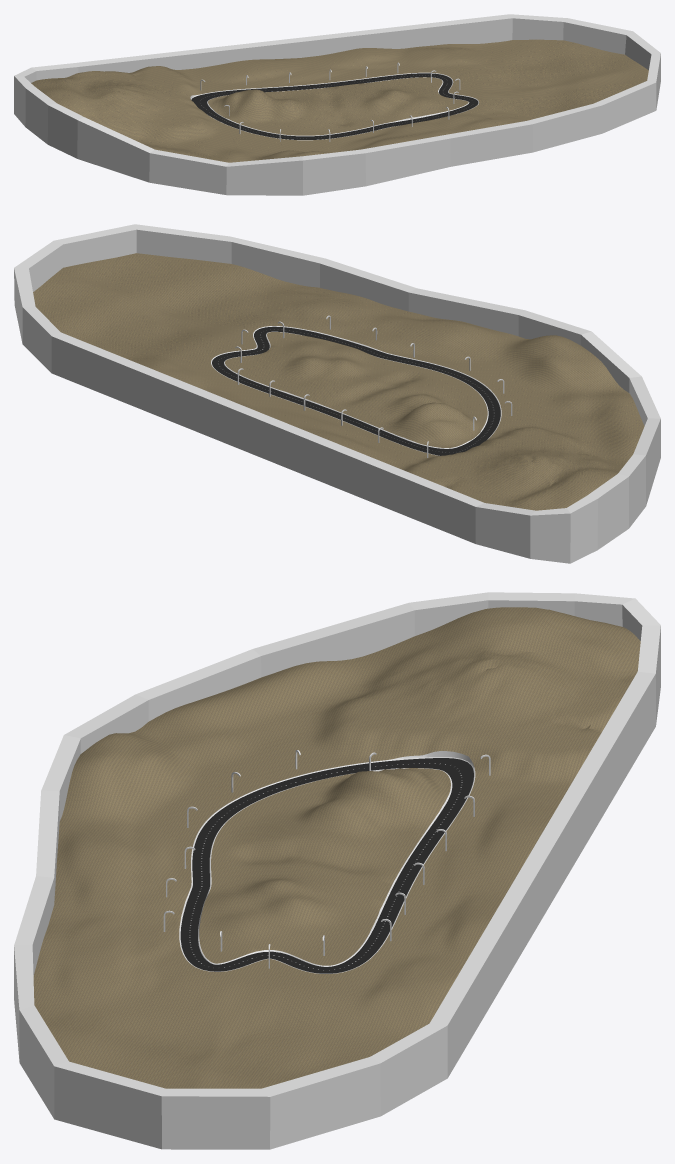
The model's file is racetrack1.gltf.
3 views of the same model, one above another, from view 1: azimuth 30°, elevation 25°; view 2: azimuth 150°, elevation 25°; view 3: azimuth 270°, elevation 25° (orthographic). The views are drawn at different scales.
Parts seen in each view (by area): view 1: Plane.002, Wall; view 2: Plane.002, Wall; view 3: Plane.002, Wall.
Boxes of the visible parts, <box> form: Plane.002: <box>31,39,648,162</box>; Wall: <box>14,14,660,195</box>; Plane.002: <box>33,253,644,510</box>; Wall: <box>14,224,660,563</box>; Plane.002: <box>33,607,640,1088</box>; Wall: <box>14,592,660,1149</box>.
Size of the model in its own units: 595 by 45.61 by 337.
Materials: 3 (2 with a texture image).
